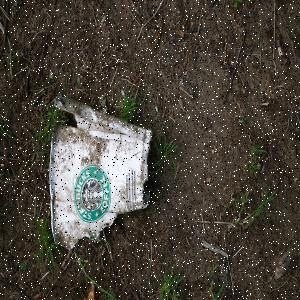Cup: (49, 95, 154, 251)
